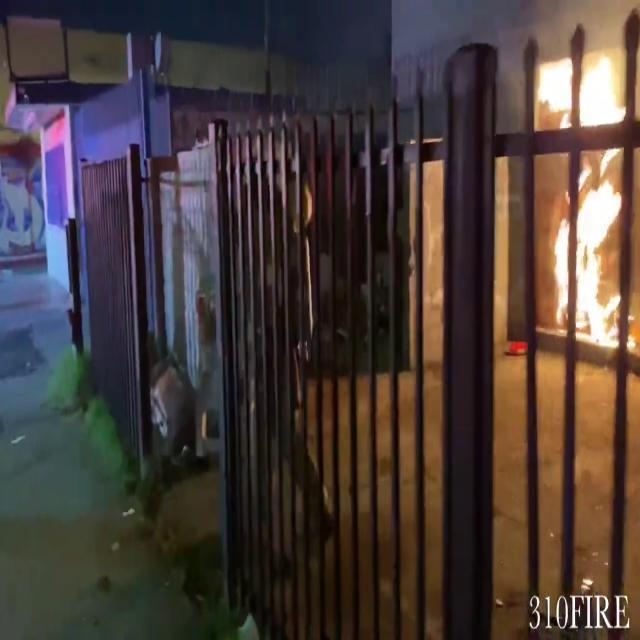Fire: (540, 39, 628, 363)
